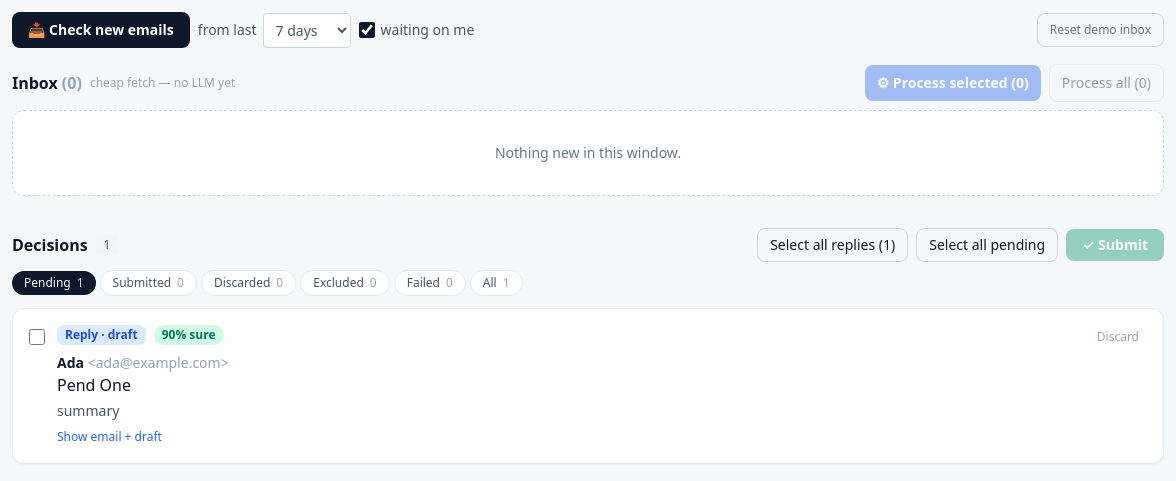
Test case: ReviewPage › reset clears state and shows a banner
Check: the text "Pend One" is shown, box [57,374,131,396]
What coordinates should you click on to do the following:
click the button "Reset demo inbox"
I would click on:
 (1100, 30)
Its box is [1037,13,1164,47].
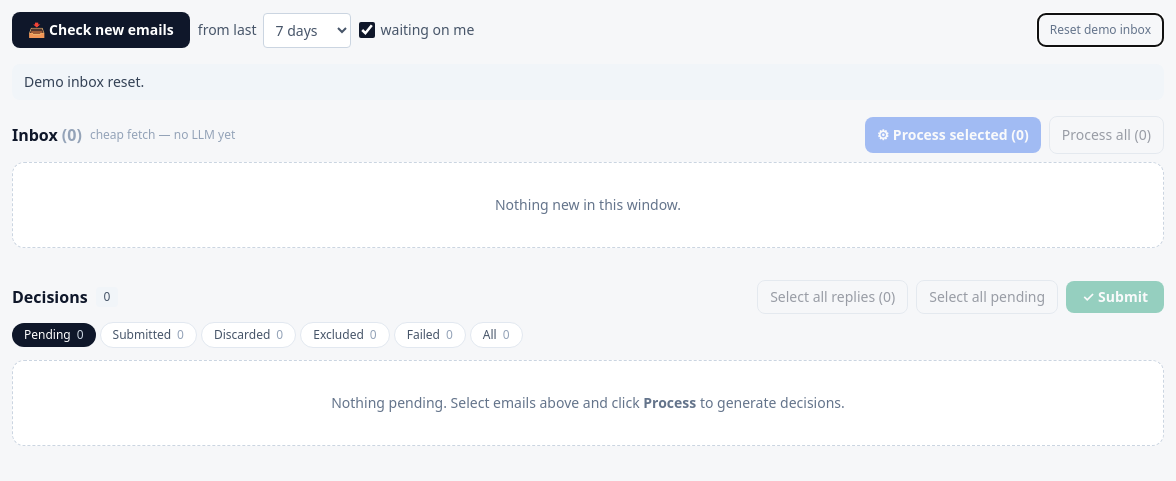
Check: the text "Demo inbox reset." is shown, box [12,64,1164,100]
Check: the text "Pend One" is gone
